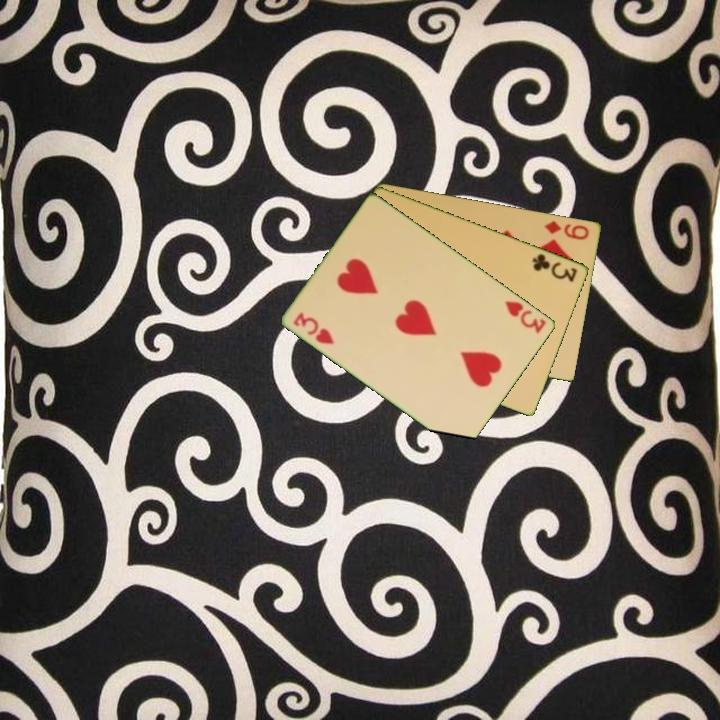3c: (529, 250, 580, 285)
3h: (501, 297, 549, 336), (290, 308, 337, 347)
9d: (541, 217, 592, 243)
